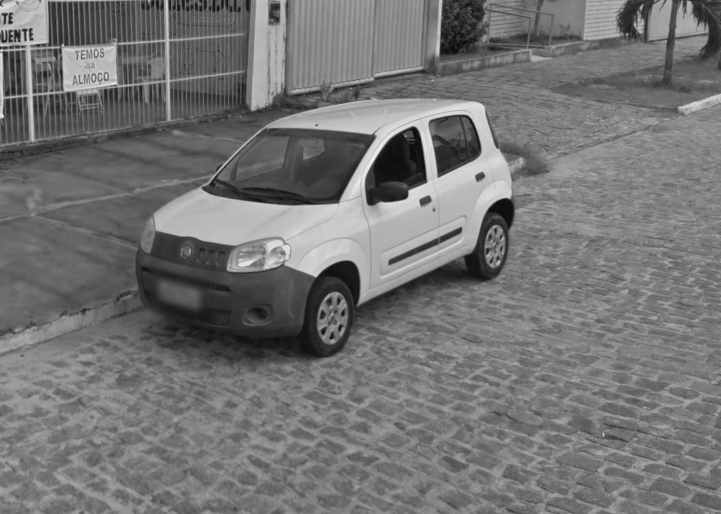car: (132, 94, 515, 358)
